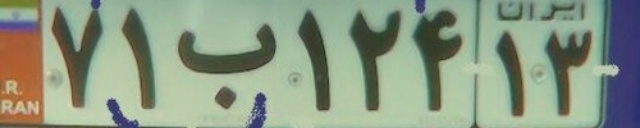1: (117, 7, 164, 110), (294, 10, 336, 110), (492, 30, 532, 116)
2: (347, 8, 403, 111)
3: (544, 28, 593, 116)
4: (413, 9, 463, 112)
7: (49, 5, 108, 109)
be: (173, 21, 279, 111)
